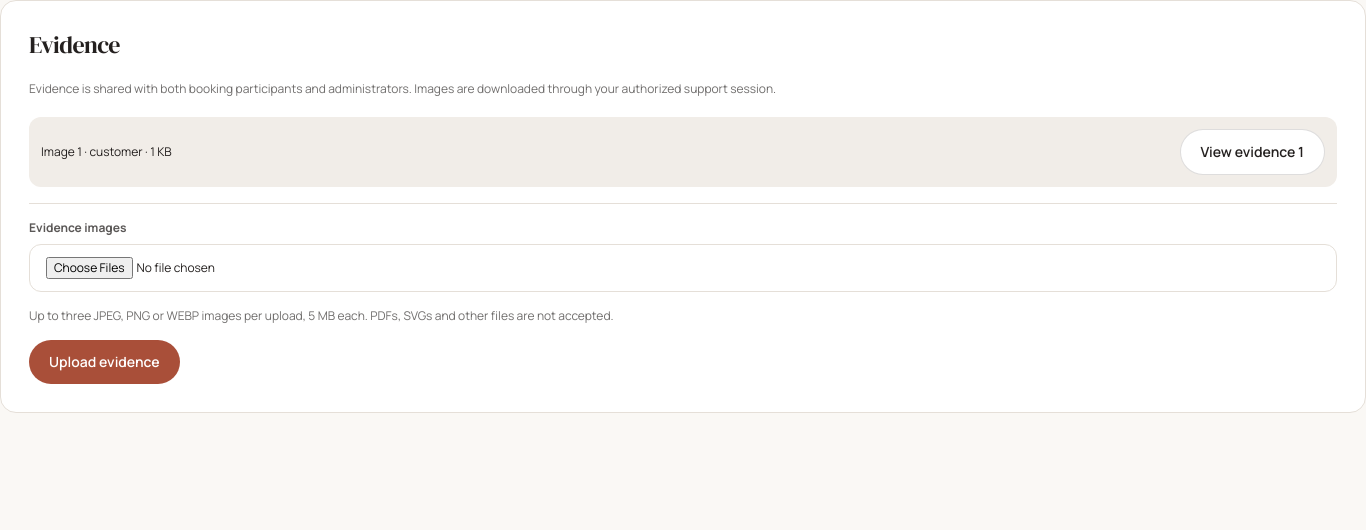
Test case: private support evidence › reuses the same evidence operation key, files and inspected revision on an uncertain upload
Earlier steps of the test are not shown.
Click the button "Upload evidence" at x=104, y=362, box top-left (29, 340), bottom-right (180, 384)
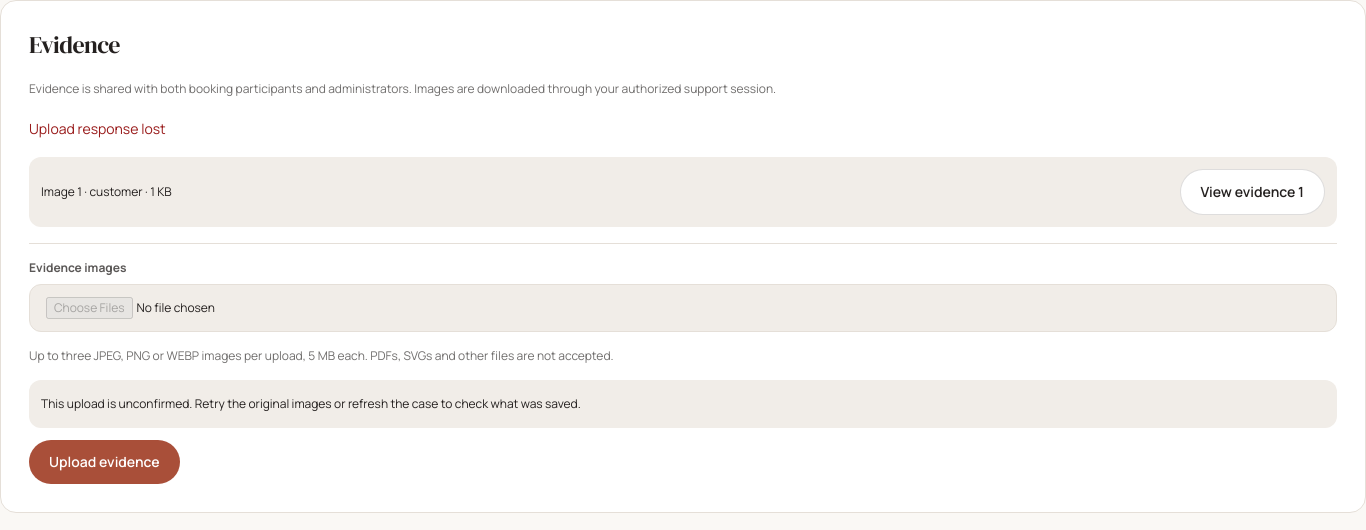
expect the message "Upload response lost" is shown: met, box top-left (29, 119), bottom-right (166, 138)
expect the file field labelled "Evidence images" is disabled: met, box top-left (29, 284), bottom-right (1337, 332)
Click the button "Upload evidence" at x=104, y=462, box top-left (29, 440), bottom-right (180, 484)
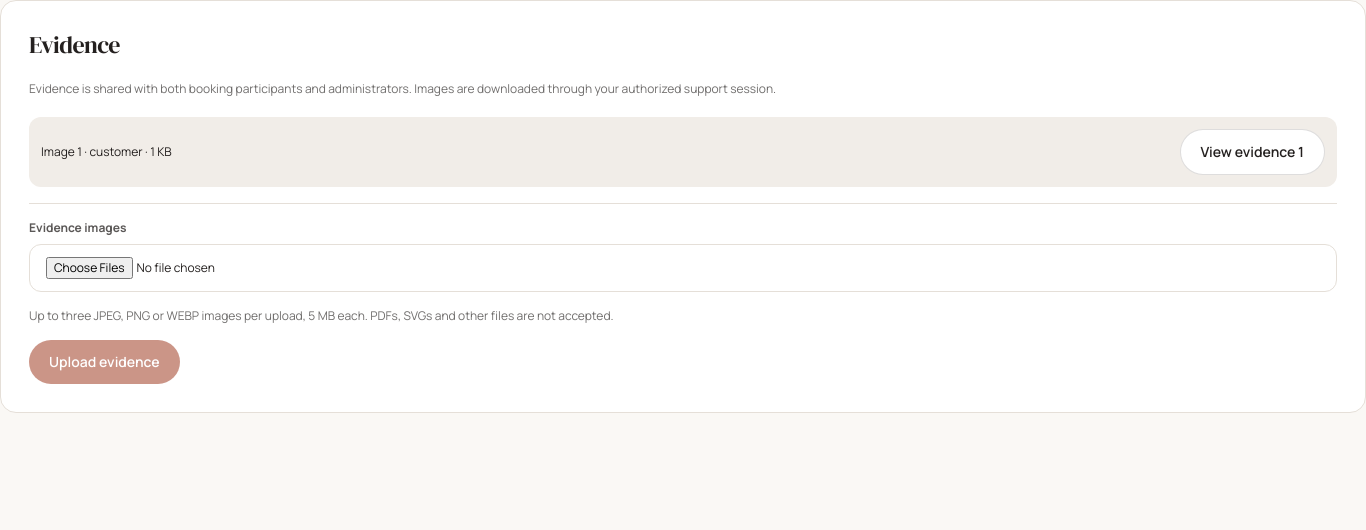
expect the file field labelled "Evidence images" is enabled: met, box top-left (29, 244), bottom-right (1337, 292)
